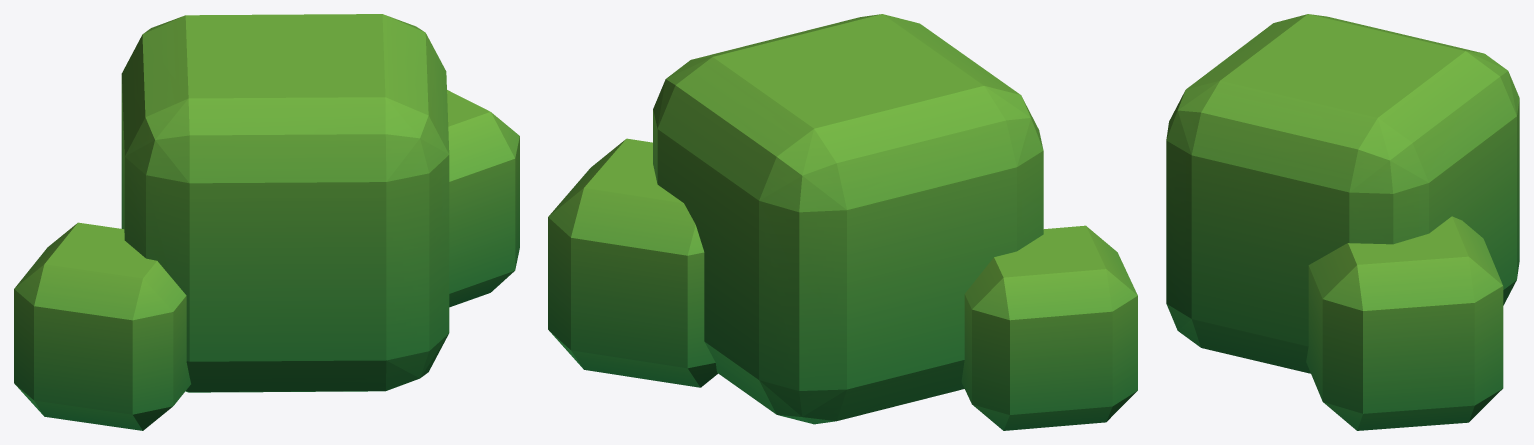
The model's file is kf_bush_2_d.fbx.
3 renders of one model, left to right at view 1: azimuth 30°, elevation 25°; view 2: azimuth 150°, elevation 25°; view 3: azimuth 270°, elevation 25°, orthographic. The views are drawn at different scales.
Visible parts, largest first — view 1: kf_bush_2_d; view 2: kf_bush_2_d; view 3: kf_bush_2_d.
Boxes of the visible parts, left/top/right/bottom form: kf_bush_2_d: left=14, top=14, right=519, bottom=430; kf_bush_2_d: left=548, top=14, right=1137, bottom=430; kf_bush_2_d: left=1166, top=14, right=1519, bottom=430.
Bounding box in the file's own units: 2.52 × 1.37 × 1.63.
